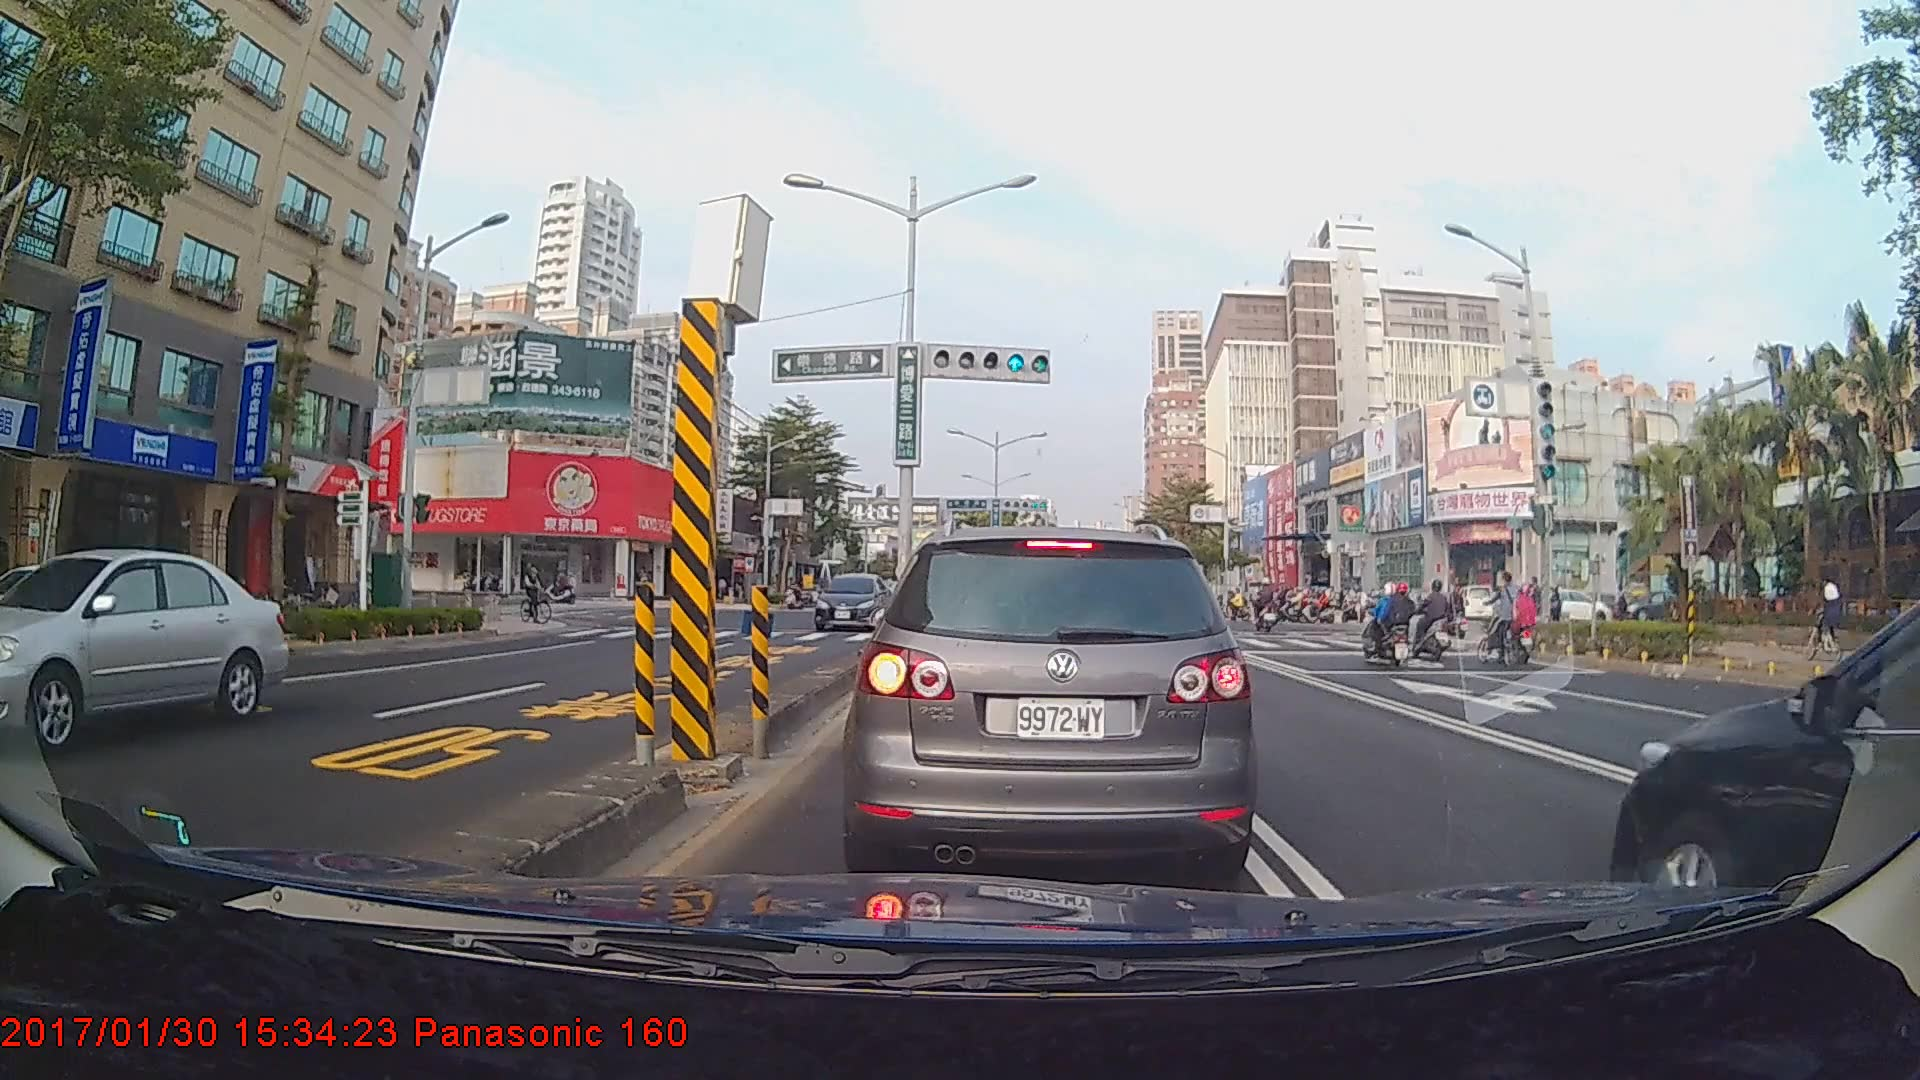pedestrian: (1611, 581, 1631, 640)
rider: (1469, 570, 1523, 667), (1366, 580, 1421, 669), (1403, 580, 1461, 662), (1803, 577, 1857, 663), (518, 559, 561, 629), (1247, 576, 1286, 637), (537, 568, 579, 606)
vehicle: (856, 524, 1249, 879), (0, 547, 286, 757), (811, 571, 893, 632)
